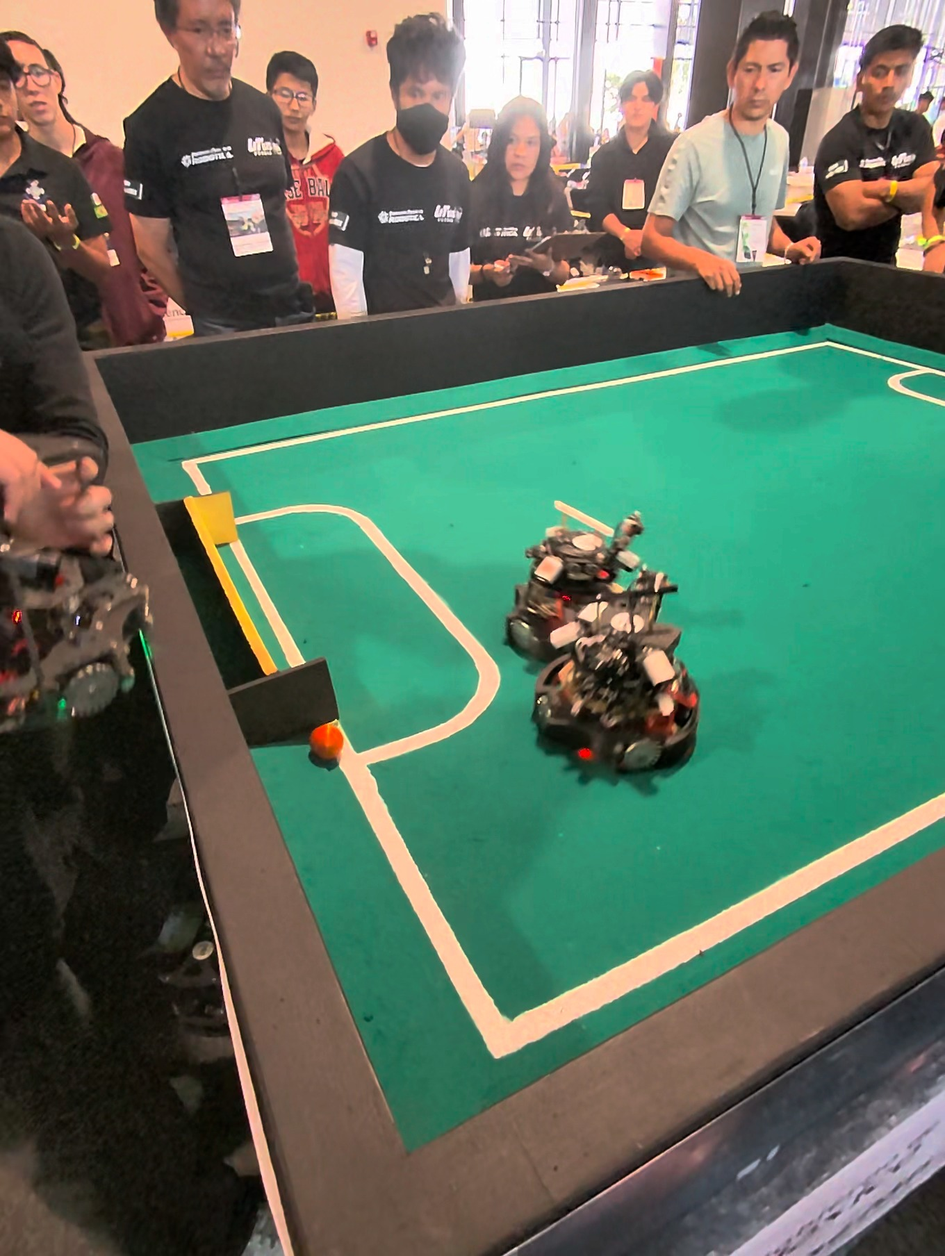Robot: (523, 579, 704, 800), (508, 481, 662, 665)
pelota: (308, 725, 352, 772)
